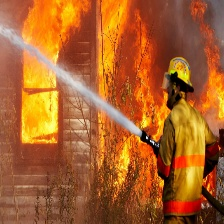fire: (20, 2, 224, 203)
smoke: (151, 2, 203, 81)
